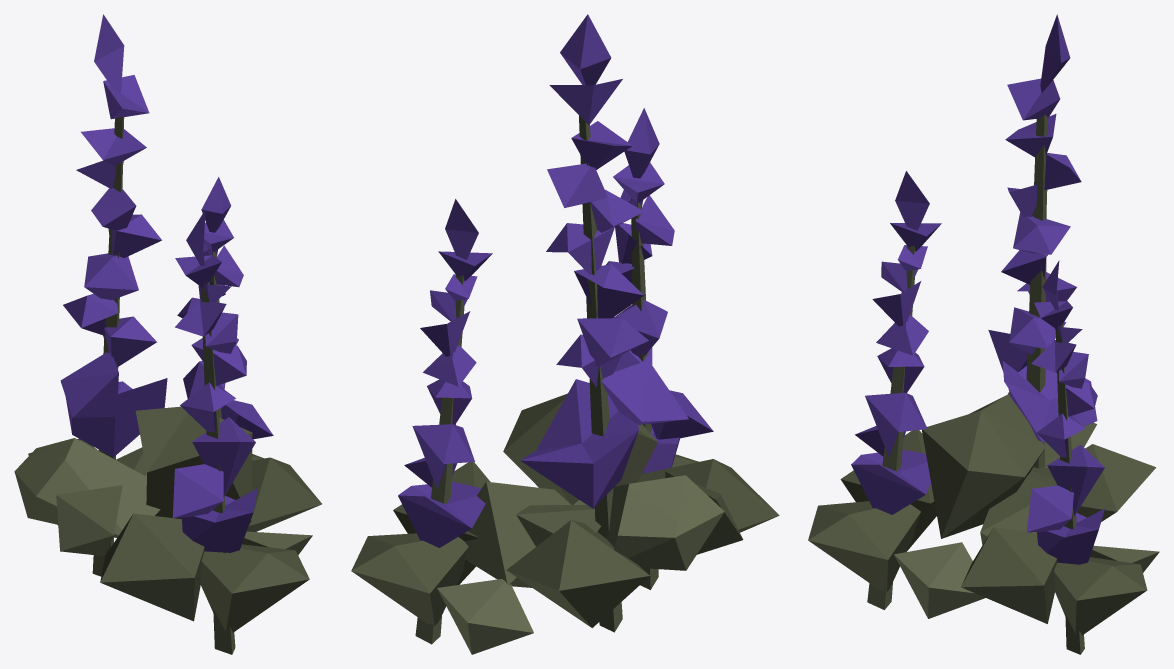
File: SM_Gen_Env_Flowers_08.obj
The picture shows the model from 3 angles, left to right: view 1: azimuth 30°, elevation 25°; view 2: azimuth 150°, elevation 25°; view 3: azimuth 270°, elevation 25°; orthographic projection. The views are drawn at different scales.
Parts seen in each view (by area): view 1: SM_Gen_Env_Flowers_08_0; view 2: SM_Gen_Env_Flowers_08_0; view 3: SM_Gen_Env_Flowers_08_0.
Boxes of the visible parts, left/top/right/bottom form: SM_Gen_Env_Flowers_08_0: left=14, top=14, right=321, bottom=654; SM_Gen_Env_Flowers_08_0: left=351, top=14, right=779, bottom=654; SM_Gen_Env_Flowers_08_0: left=808, top=14, right=1159, bottom=654.
Bounding box in the file's own units: 0.6115 × 1.21 × 0.672.
Materials: 1 (1 with a texture image).
